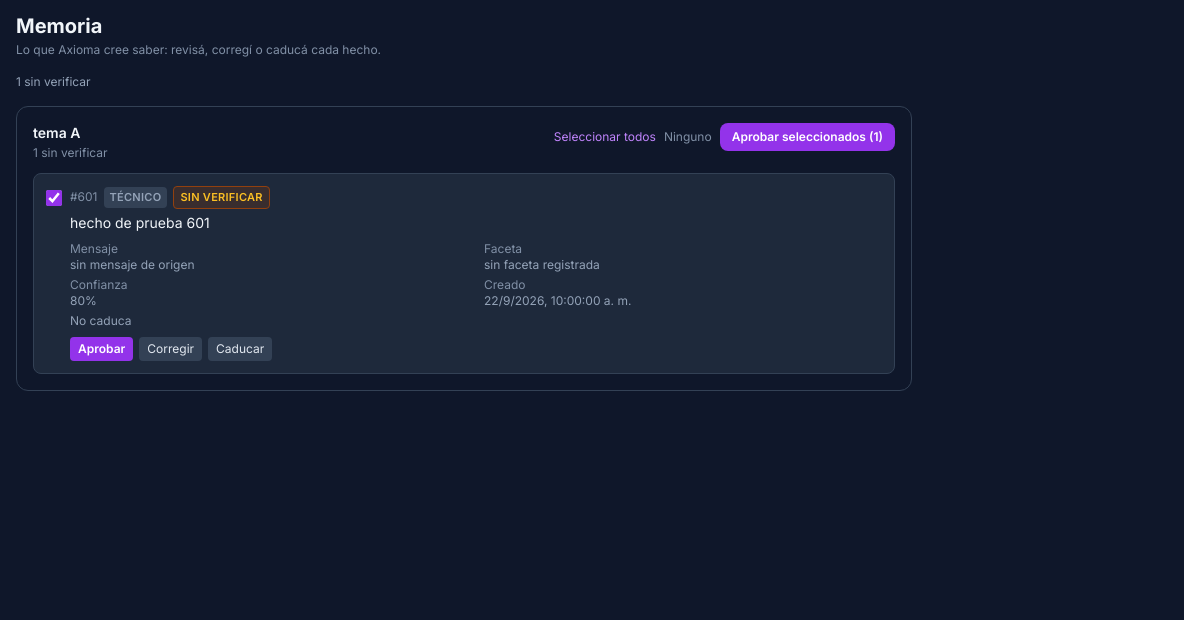
Test: Memoria › un id nuevo que aparece recien en una recarga tambien recibe el marcado por defecto
Expected: the checkbox is checked, [46,190,62,206]
Click the button "Aprobar": (102, 348) [70,336,133,360]
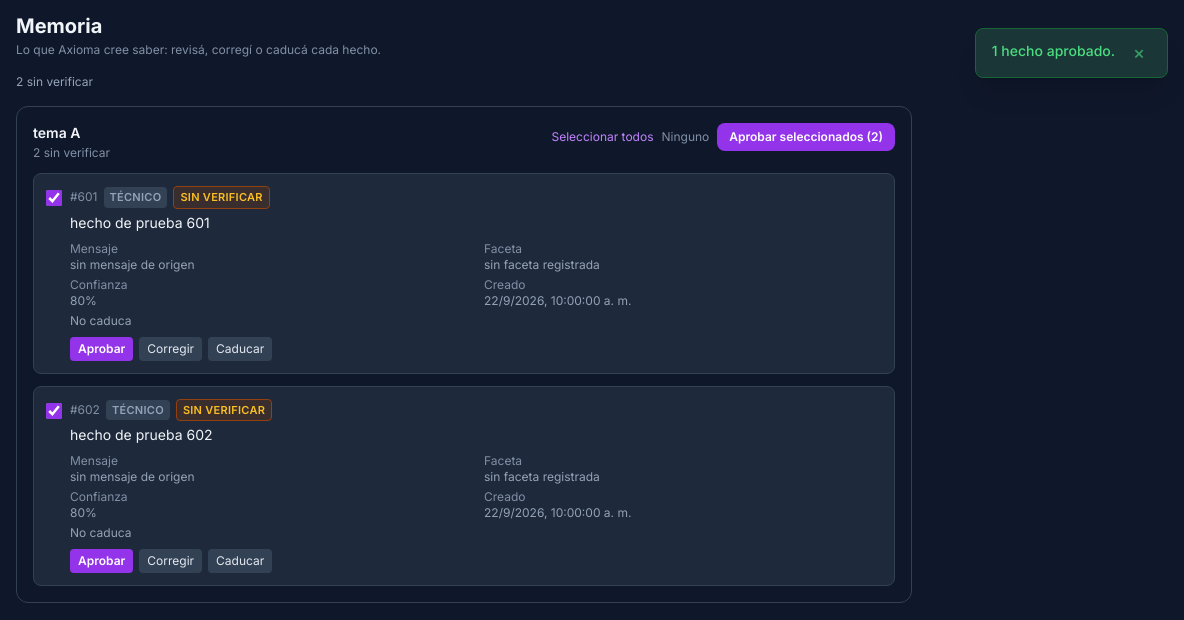
Result: the checkbox named "Seleccionar hecho #602 para aprobar en lote" is checked at [46,402,62,418]
